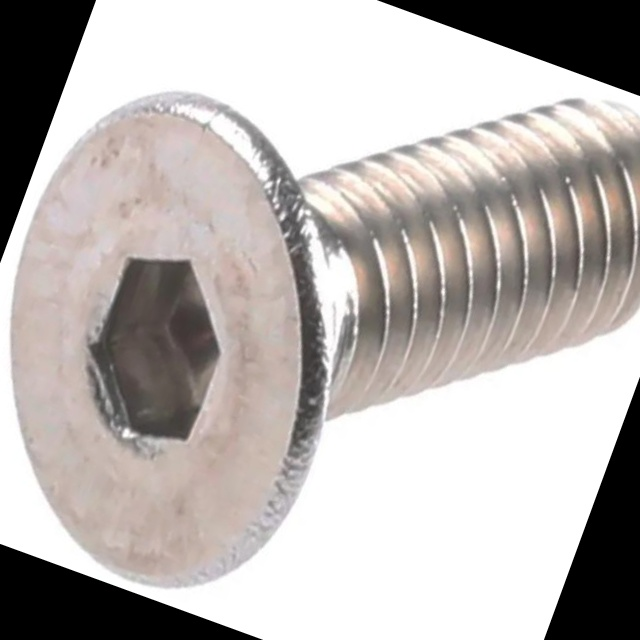allen: (0, 52, 421, 631)
